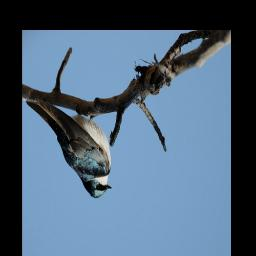Swallow: (25, 97, 113, 200)
